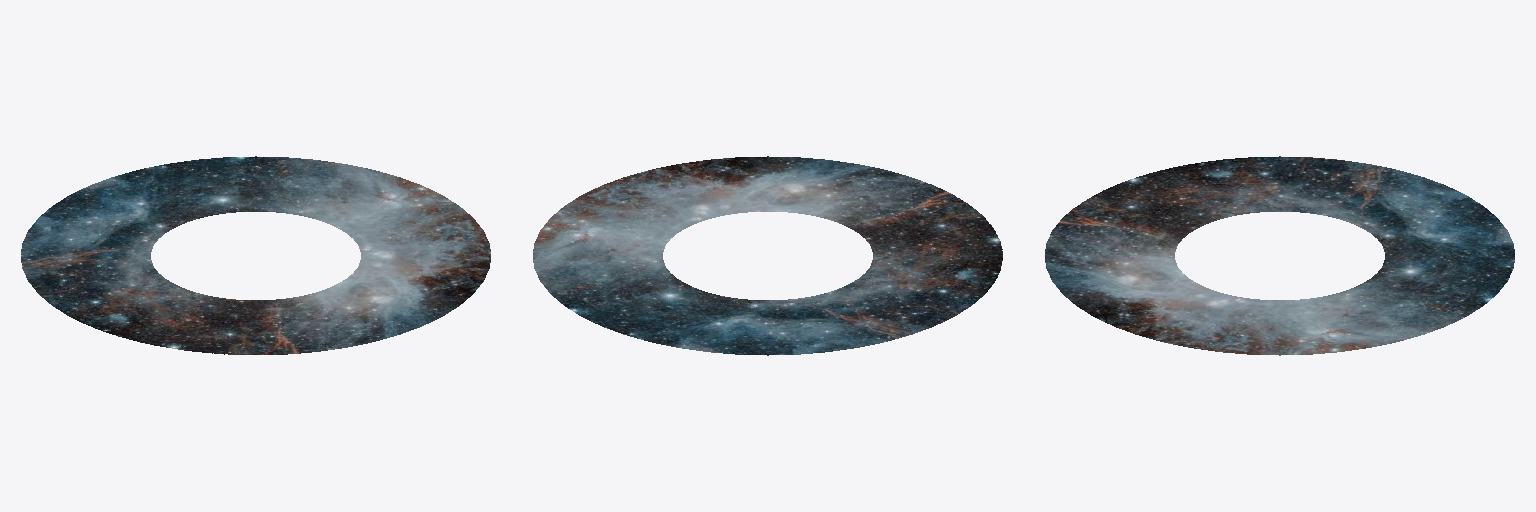
3 renders of one model, left to right at view 1: azimuth 30°, elevation 25°; view 2: azimuth 150°, elevation 25°; view 3: azimuth 270°, elevation 25°, orthographic.
Visible parts, largest first — view 1: Torus.001; view 2: Torus.001; view 3: Torus.001.
Part boxes in pixels (bbox=[...]): Torus.001: bbox=[21, 156, 490, 354]; Torus.001: bbox=[533, 156, 1002, 355]; Torus.001: bbox=[1045, 156, 1514, 355].
Size of the model in its own units: 365 by 0.5 by 365.
1 materials, 1 textured.